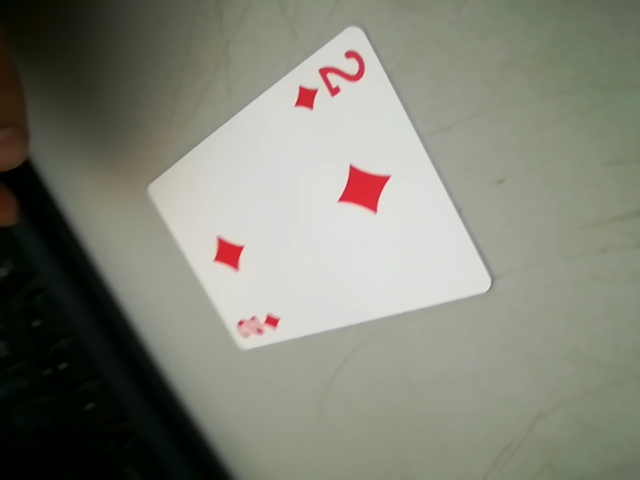fk 2: (284, 41, 373, 115), (226, 303, 291, 349)
